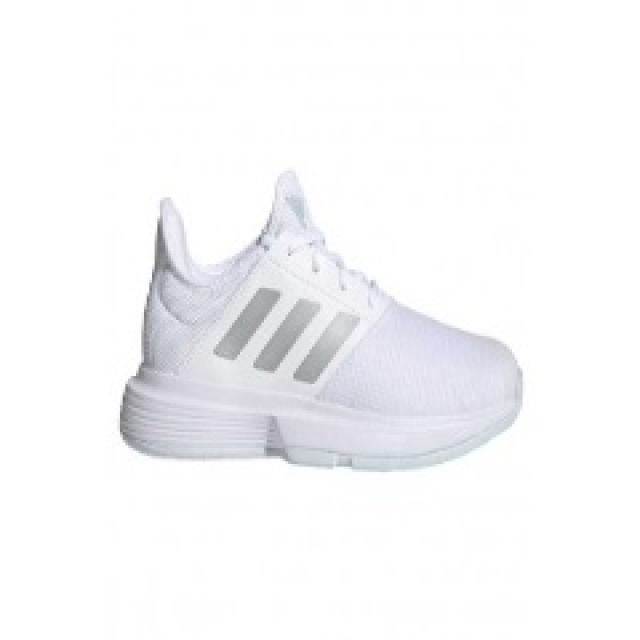shoes: (104, 162, 543, 484)
